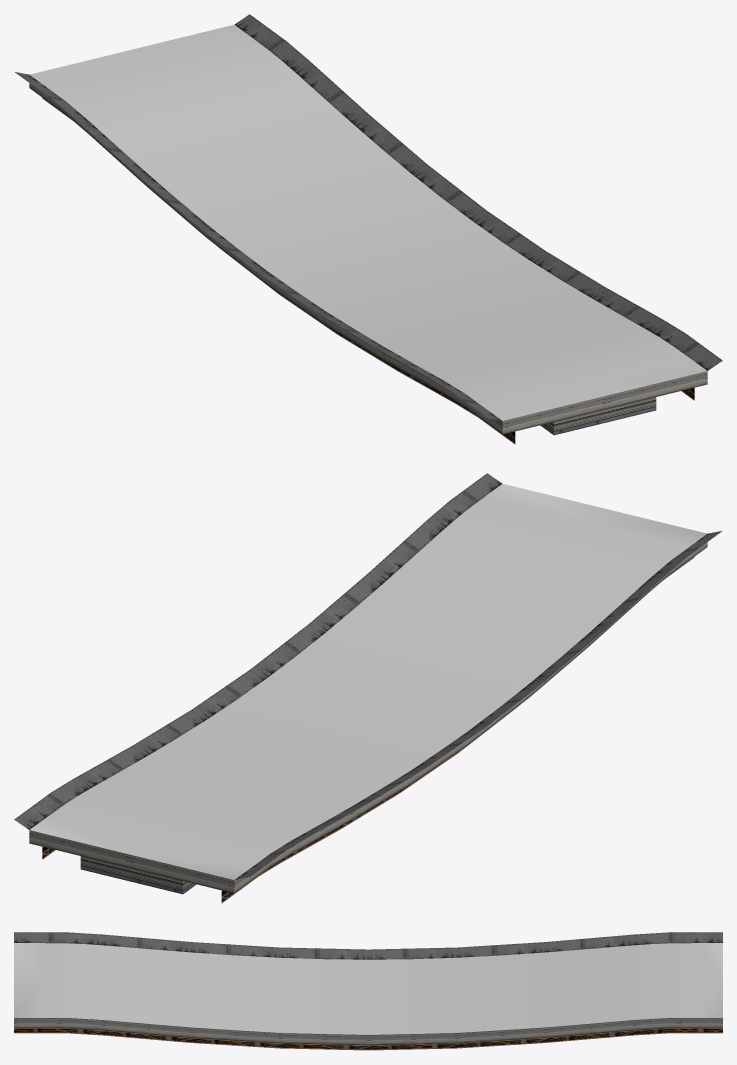
Rendered from StrDip2.fbx.
3 views of the same model, one above another, from view 1: azimuth 30°, elevation 25°; view 2: azimuth 150°, elevation 25°; view 3: azimuth 270°, elevation 25° (orthographic). The views are drawn at different scales.
Visible parts, largest first — view 1: Empty_Mesh; view 2: Empty_Mesh; view 3: Empty_Mesh.
Boxes of the visible parts, <box> form: Empty_Mesh: <box>15,14,722,444</box>; Empty_Mesh: <box>14,473,721,903</box>; Empty_Mesh: <box>14,932,722,1050</box>.
Bounding box in the file's own units: 18.4 × 4.2 × 64.
